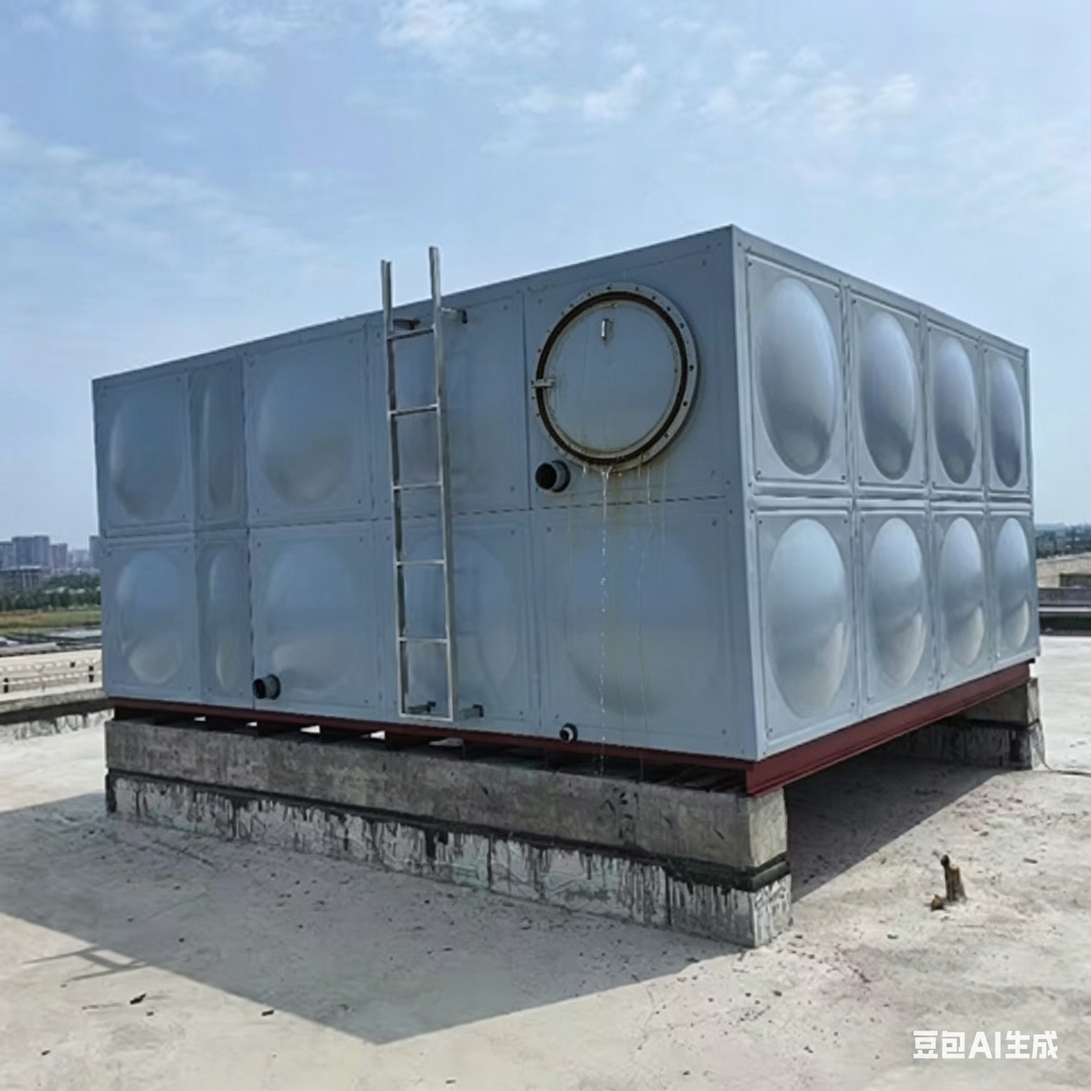Leakage: (556, 451, 640, 788)
